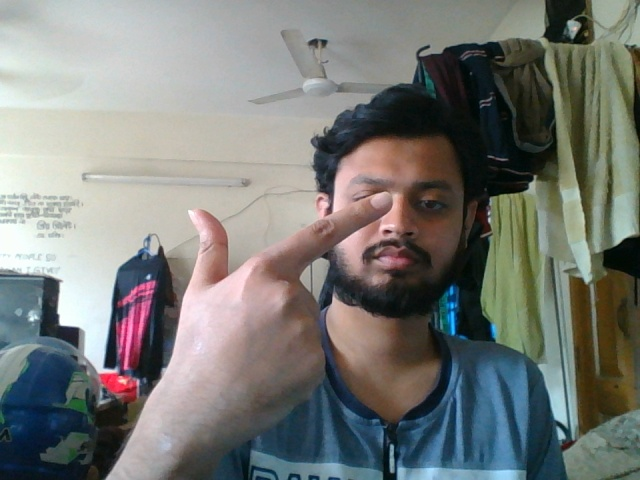tho: (159, 192, 400, 439)
